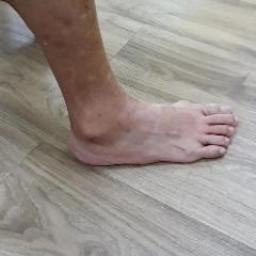Lateral View -Right Foot-: (50, 72, 249, 178)
